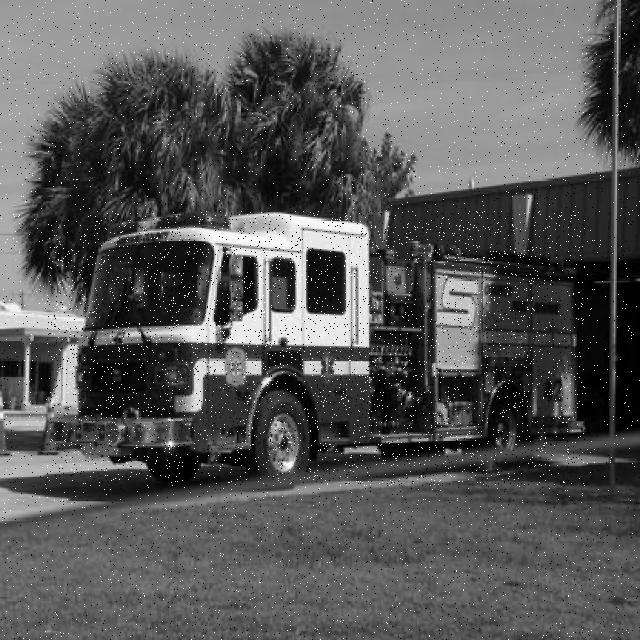Fire Truck: (47, 211, 585, 486)
